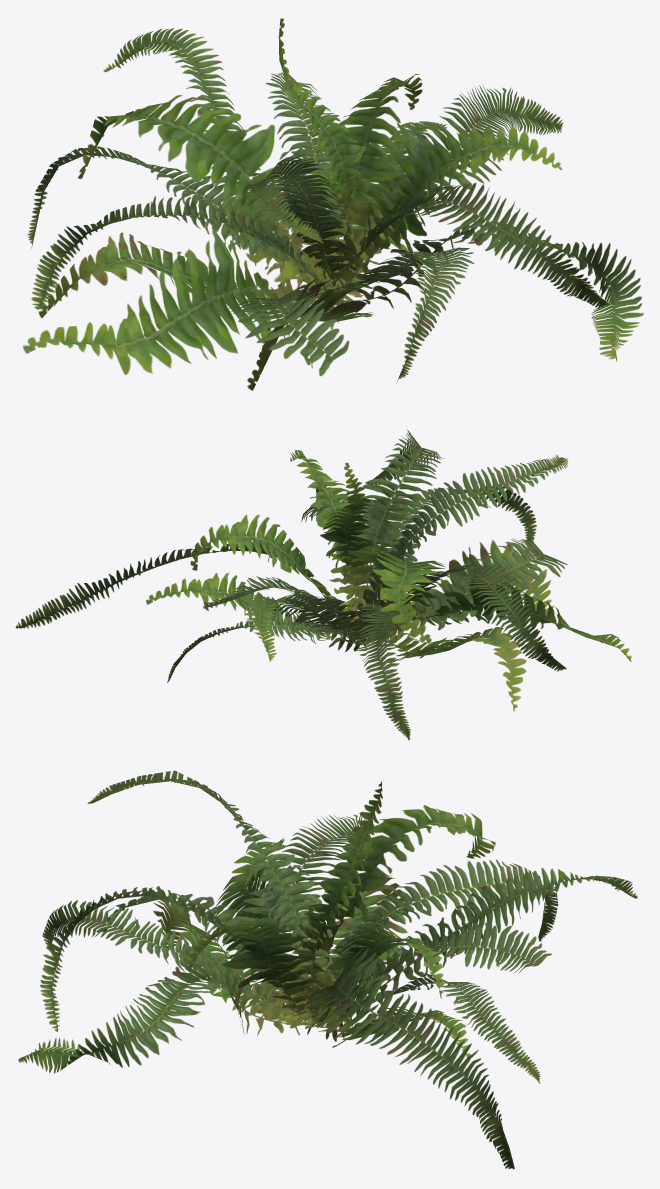
File: fern_b.glb
3 views of the same model, one above another, from view 1: azimuth 30°, elevation 25°; view 2: azimuth 150°, elevation 25°; view 3: azimuth 270°, elevation 25° (orthographic). The views are drawn at different scales.
Parts seen in each view (by area): view 1: fern_02_c_w; view 2: fern_02_c_w; view 3: fern_02_c_w.
Boxes of the visible parts, x1,y1,x2,y2 form: fern_02_c_w: (23, 18, 643, 390); fern_02_c_w: (15, 429, 631, 740); fern_02_c_w: (18, 770, 637, 1169).
Bounding box in the file's own units: 1.5 × 0.6 × 1.32.
1 material, 1 textured.
